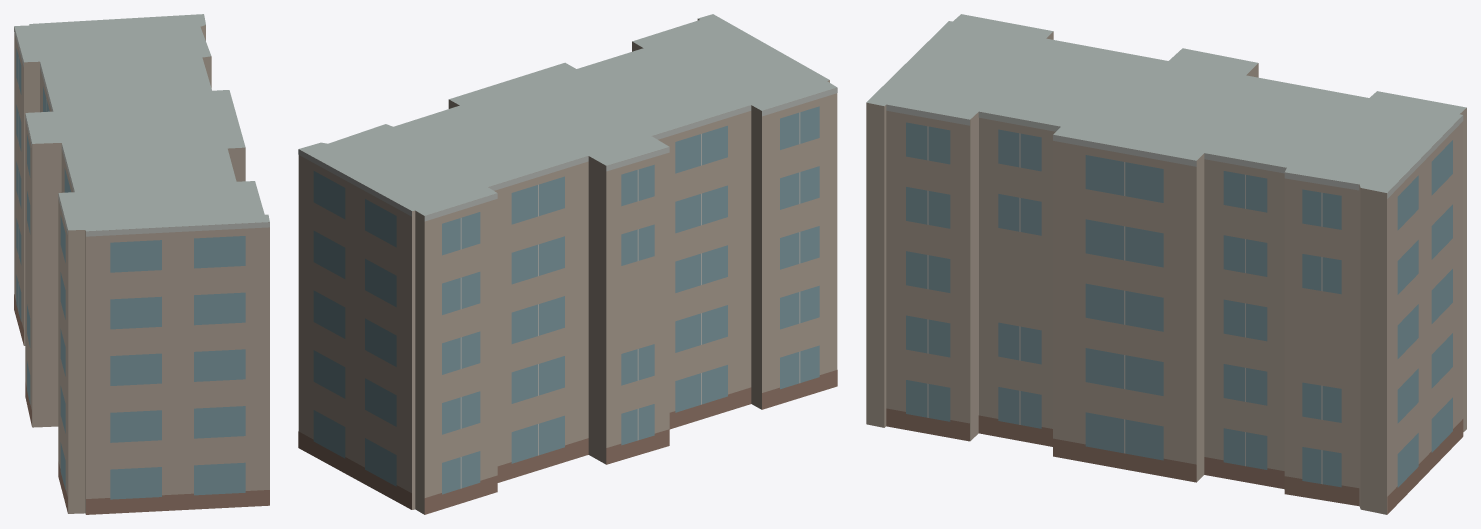
The model's file is survey-upis-32530652.glb.
3 views of the same model, side by side, from view 1: azimuth 30°, elevation 25°; view 2: azimuth 150°, elevation 25°; view 3: azimuth 270°, elevation 25° (orthographic). The views are drawn at different scales.
Parts seen in each view (by area): view 1: survey-upis-32530652.tmp; view 2: survey-upis-32530652.tmp; view 3: survey-upis-32530652.tmp.
Part boxes in pixels (bbox=[...]): survey-upis-32530652.tmp: bbox=[14, 14, 269, 514]; survey-upis-32530652.tmp: bbox=[298, 14, 837, 514]; survey-upis-32530652.tmp: bbox=[866, 14, 1466, 514].
Bounding box in the file's own units: 15.41 × 12.9 × 21.84.
